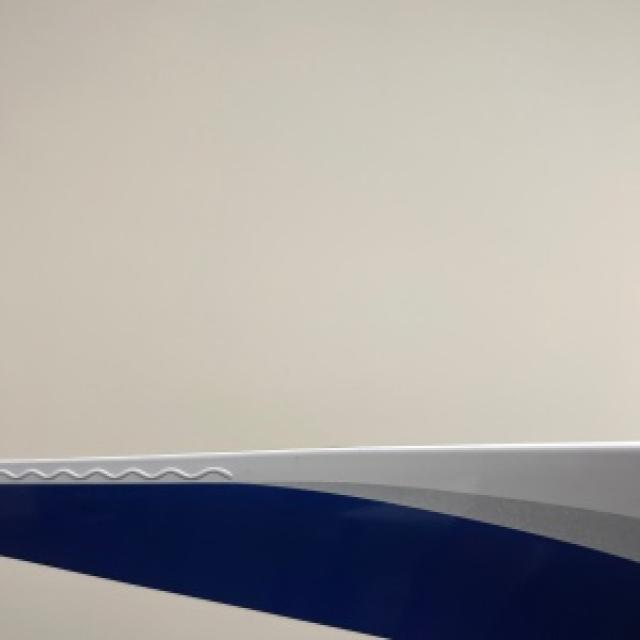healthy: (0, 442, 638, 638)
